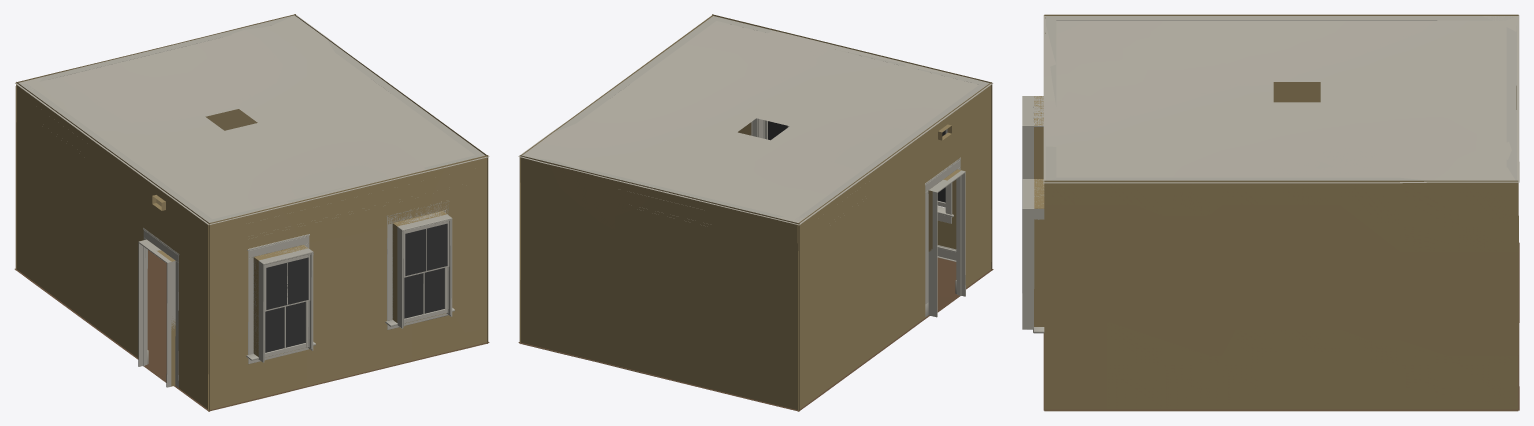
The model's file is house_parlor.glb.
3 views of the same model, side by side, from view 1: azimuth 30°, elevation 25°; view 2: azimuth 150°, elevation 25°; view 3: azimuth 270°, elevation 25° (orthographic). The views are drawn at different scales.
Visible parts, largest first — view 1: G2, G2_glass_O_G2_S2, G2_glass_O_G2_S1; view 2: G2; view 3: G2.
Boxes of the visible parts, x1=… form: G2: x1=14, y1=14, x2=489, y2=411; G2_glass_O_G2_S2: x1=404, y1=223, x2=447, y2=318; G2_glass_O_G2_S1: x1=265, y1=257, x2=308, y2=352; G2: x1=518, y1=14, x2=993, y2=411; G2: x1=1022, y1=14, x2=1519, y2=411.
Size of the model in its own units: 5.18 by 3.24 by 6.33.
